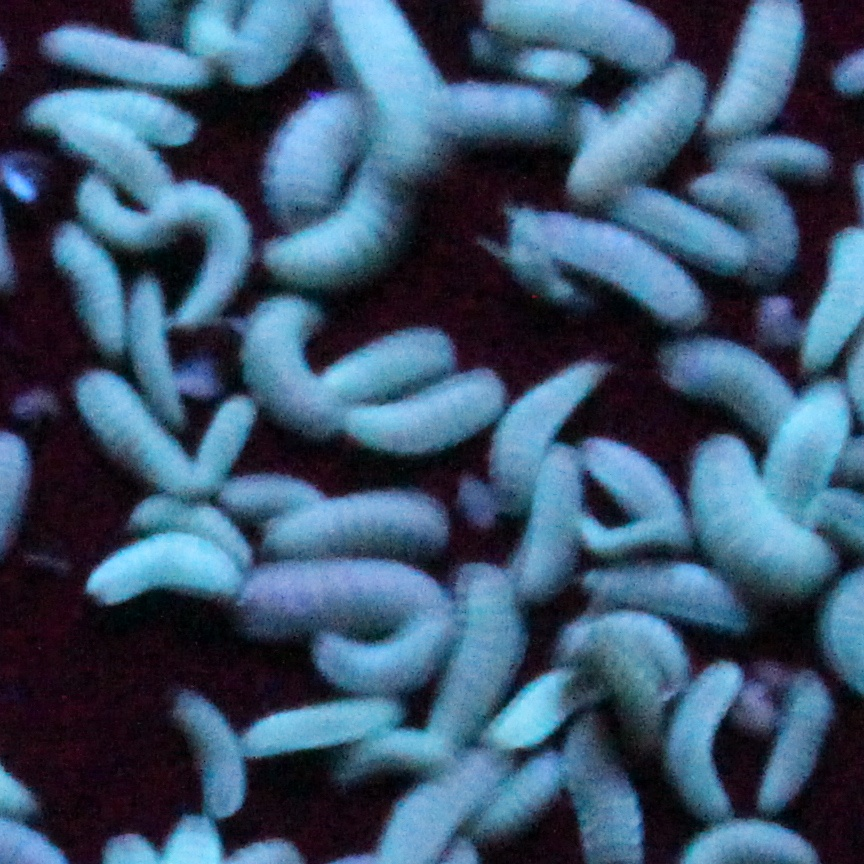larve: (507, 195, 710, 335), (681, 424, 838, 596), (489, 355, 629, 524), (565, 58, 707, 196), (228, 290, 350, 449), (433, 557, 529, 755), (247, 482, 463, 567), (74, 369, 212, 502), (656, 653, 750, 829), (578, 429, 703, 560), (251, 172, 396, 283), (79, 532, 250, 621), (347, 371, 512, 462), (33, 18, 219, 98), (232, 691, 410, 771), (651, 341, 815, 426), (162, 684, 256, 829), (43, 220, 134, 353), (261, 73, 347, 211), (162, 180, 245, 318), (34, 80, 196, 143), (59, 119, 169, 189), (485, 752, 561, 833), (78, 185, 162, 245)
